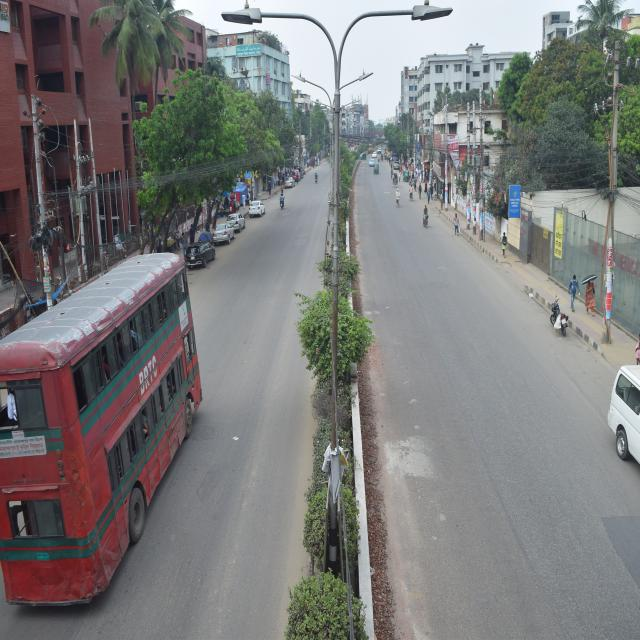bus: (3, 280, 213, 616)
car: (181, 243, 214, 275), (249, 190, 268, 228), (212, 218, 233, 250), (227, 202, 243, 239)
motorbike: (546, 290, 581, 352), (273, 188, 291, 216)
